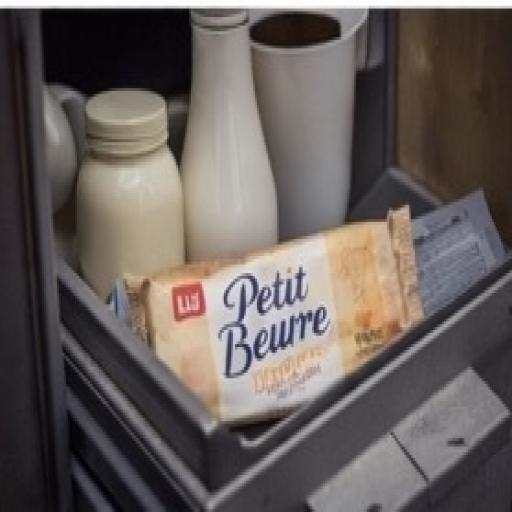petit_beurre: (101, 194, 453, 435)
